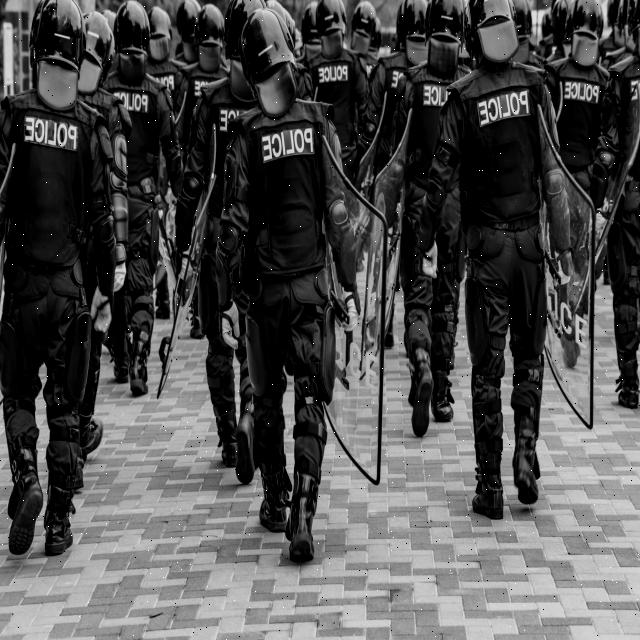police: (390, 0, 594, 534), (240, 0, 384, 562), (0, 0, 125, 546), (155, 0, 283, 487), (357, 0, 491, 443), (543, 0, 640, 435), (97, 0, 184, 416)
